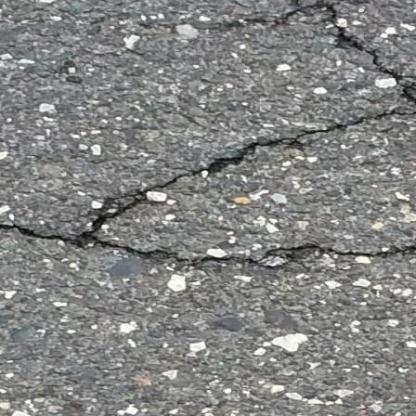Cracks: (0, 156, 416, 319), (1, 100, 416, 263), (165, 0, 416, 101)
